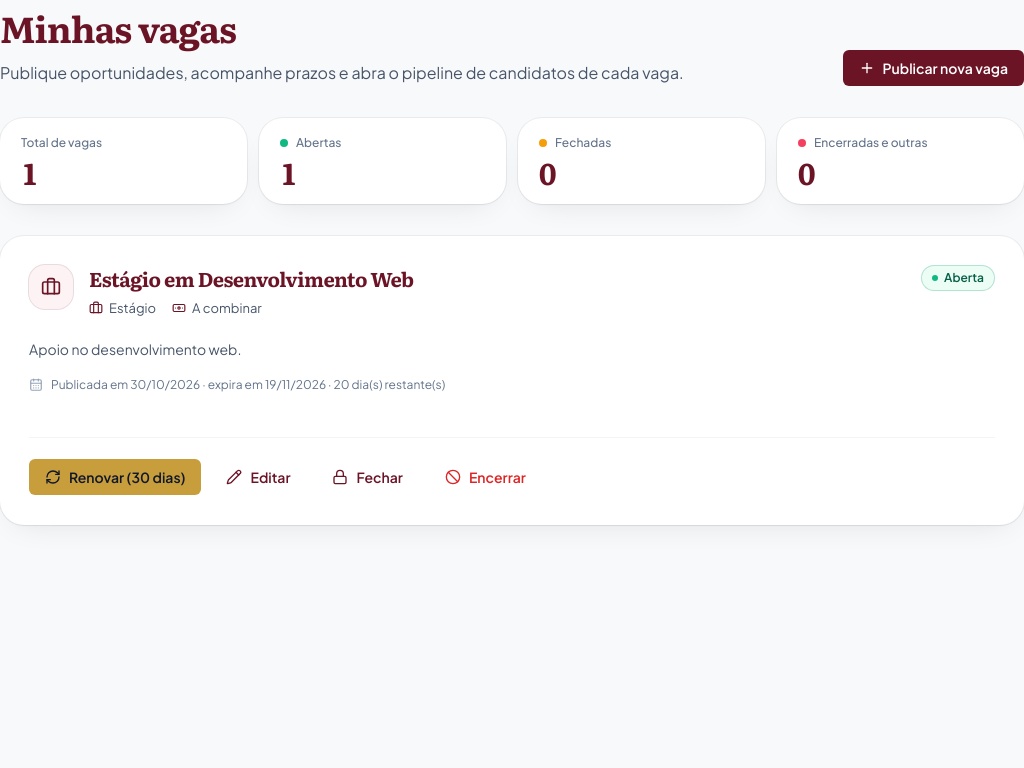
JobsPanel — confirmação antes de fechar/encerrar (H3-1) › Cancelar no encerramento não altera a vaga
Click the button "Encerrar" at [485, 477], box [428,458,543,496]
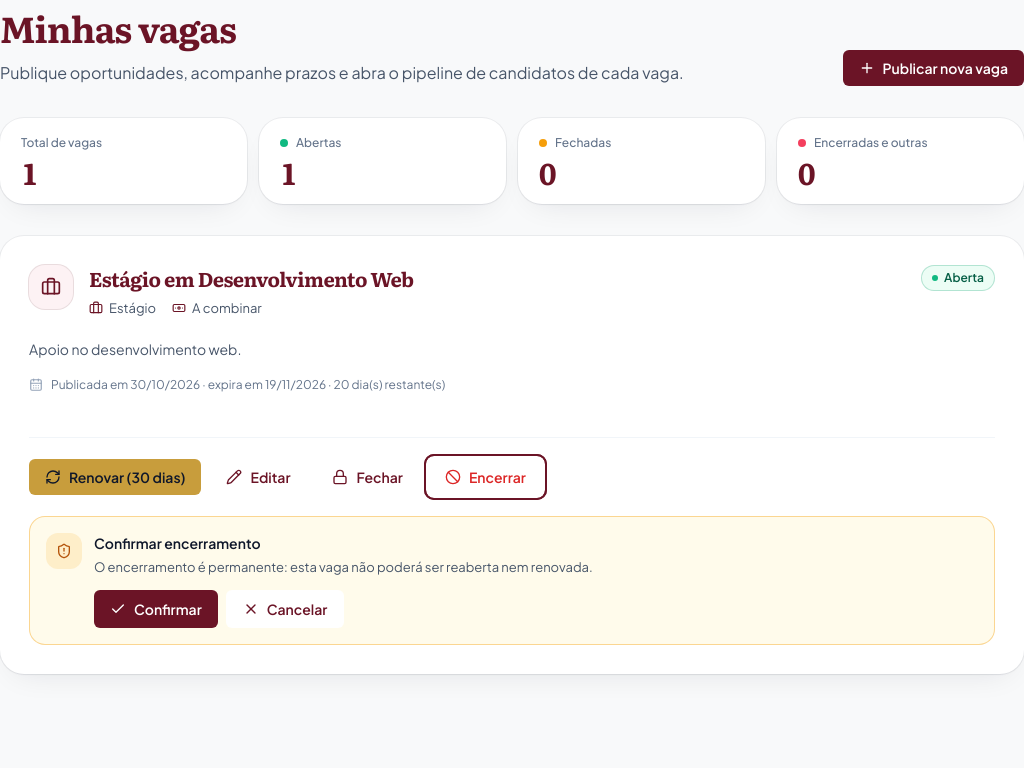
Click the button "Cancelar" at [285, 609], box [226,590,344,628]
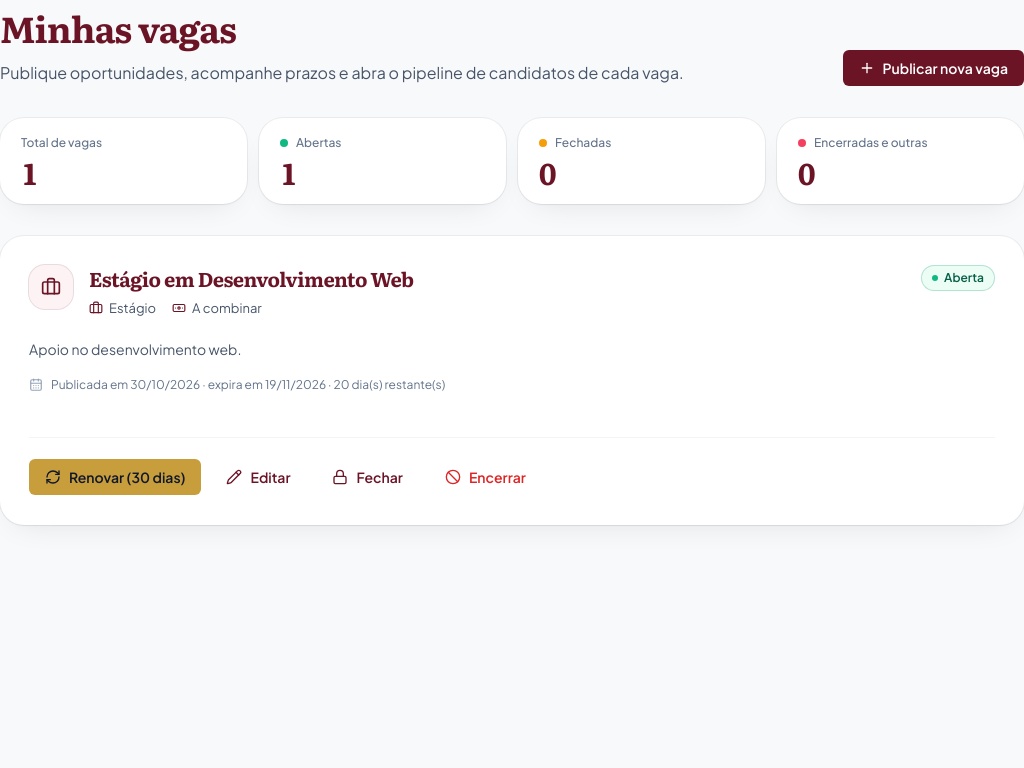
Check: the text "Confirmar encerramento" is gone
